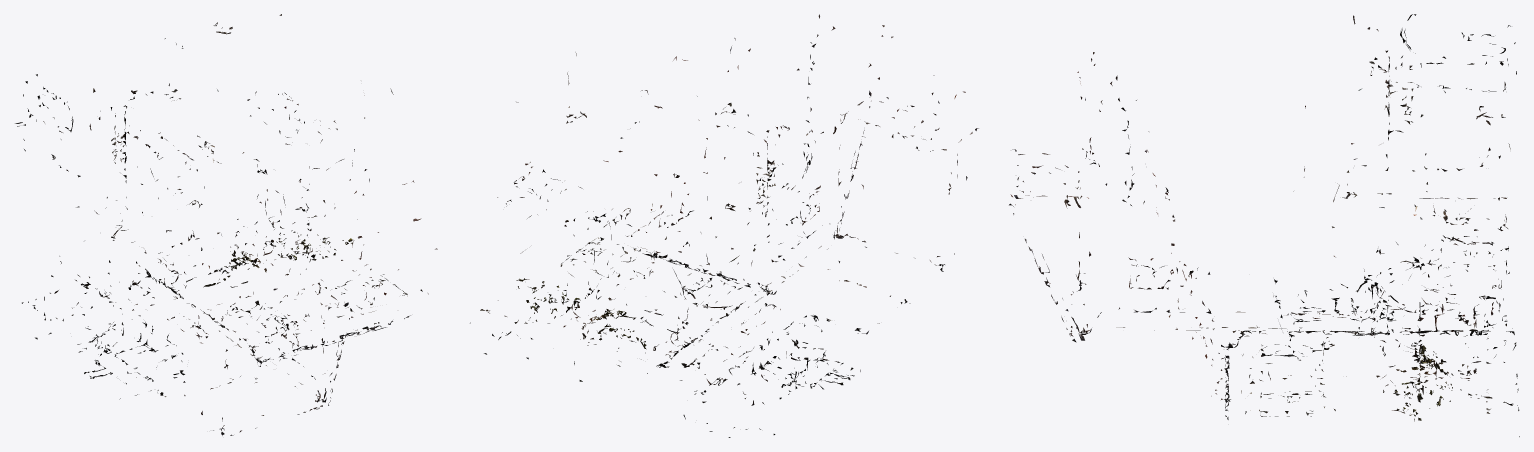
3 renders of one model, left to right at view 1: azimuth 30°, elevation 25°; view 2: azimuth 150°, elevation 25°; view 3: azimuth 270°, elevation 25°, orthographic. The views are drawn at different scales.
Bounding box in the file's own units: 12.54 × 11.07 × 16.11.
1 material, 1 textured.
